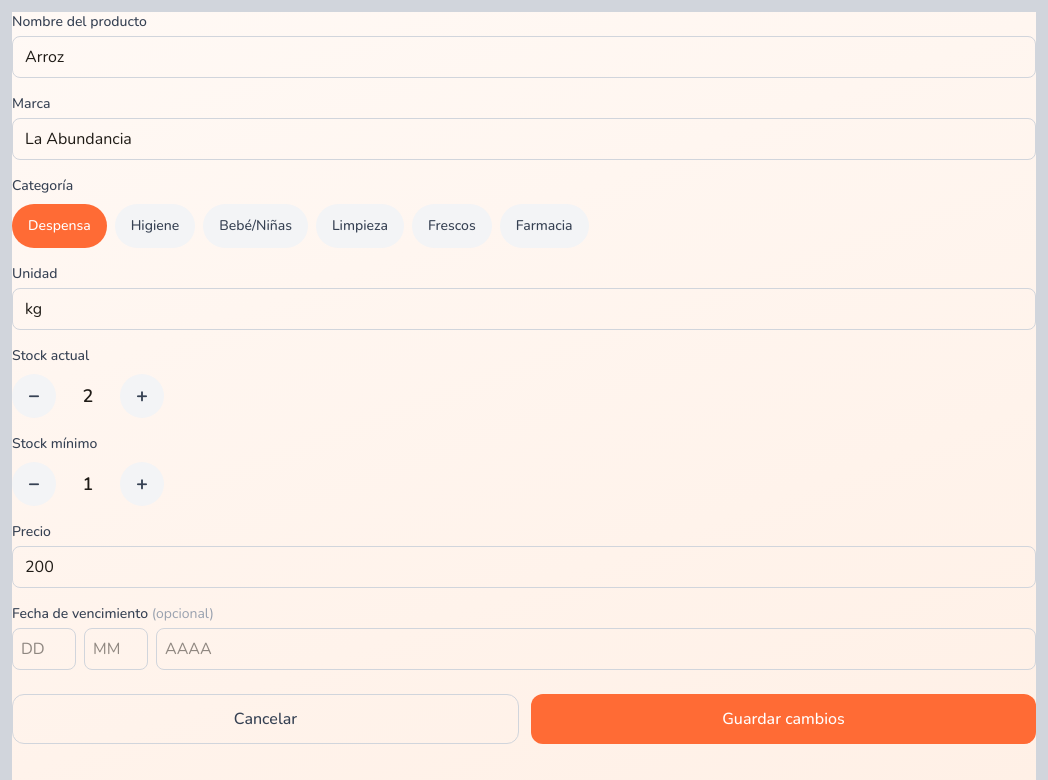
it: EditForm › incrementing current stock updates the counter
What coordinates should you click on to do the following:
click the button named "incrementar cantidad actual"
I would click on:
 (142, 396)
Its box is [120,374,164,418].
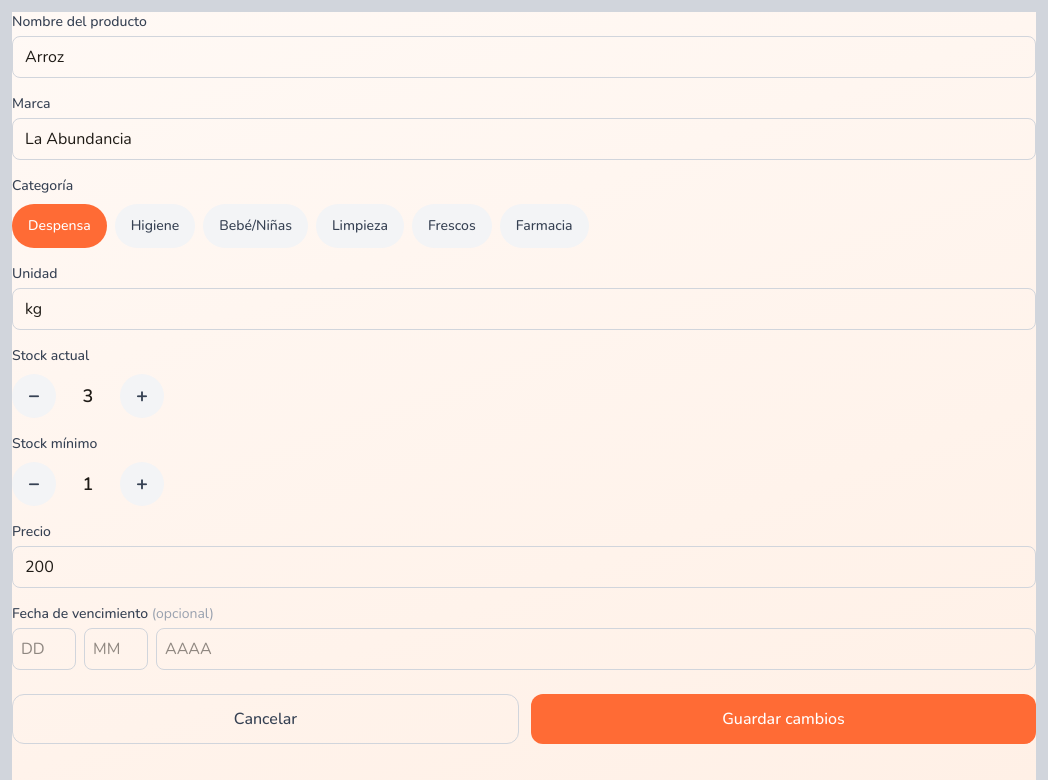
Expected: the text with test id "stock-counter" reads "3", [83,384,93,408]
